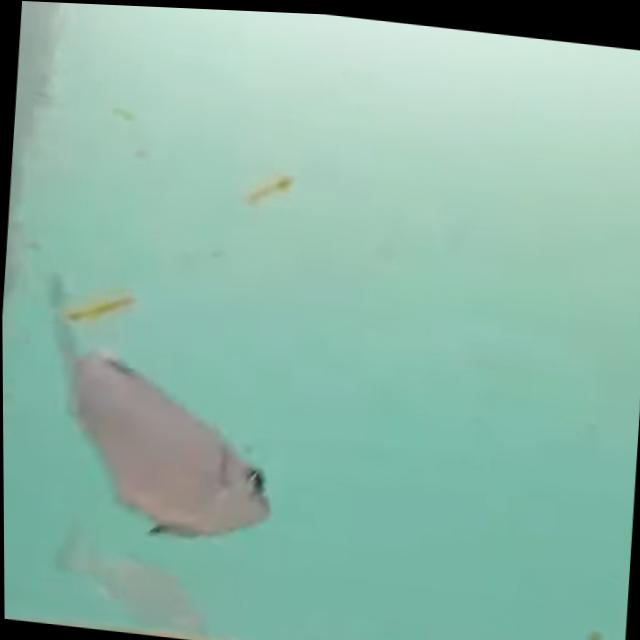fish: (23, 257, 295, 565)
